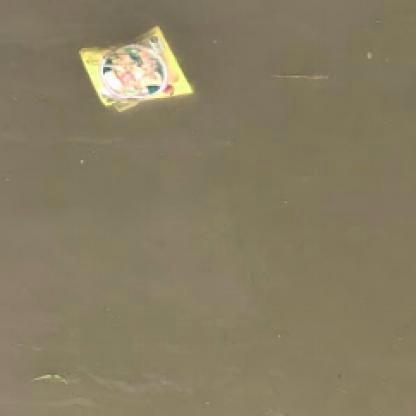Trash: (72, 19, 201, 119)
